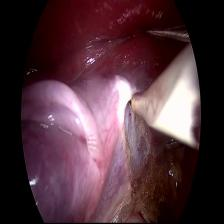Hook: (116, 42, 202, 150)
